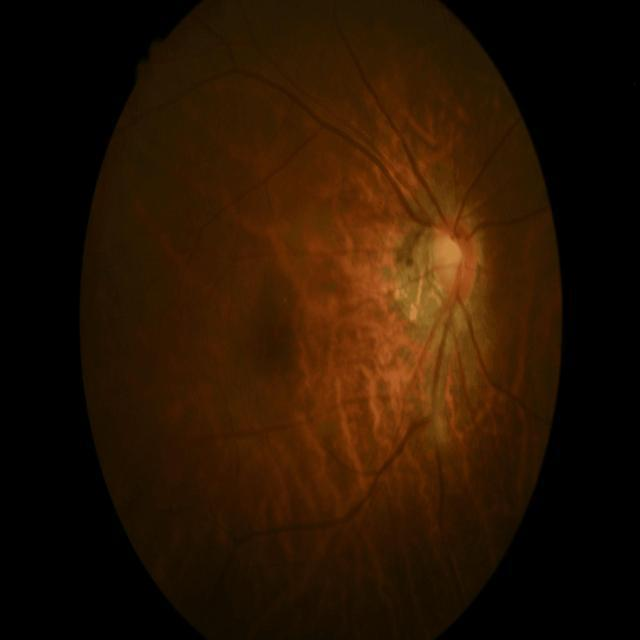cup: (436, 228, 464, 288)
disk: (430, 215, 477, 302)
